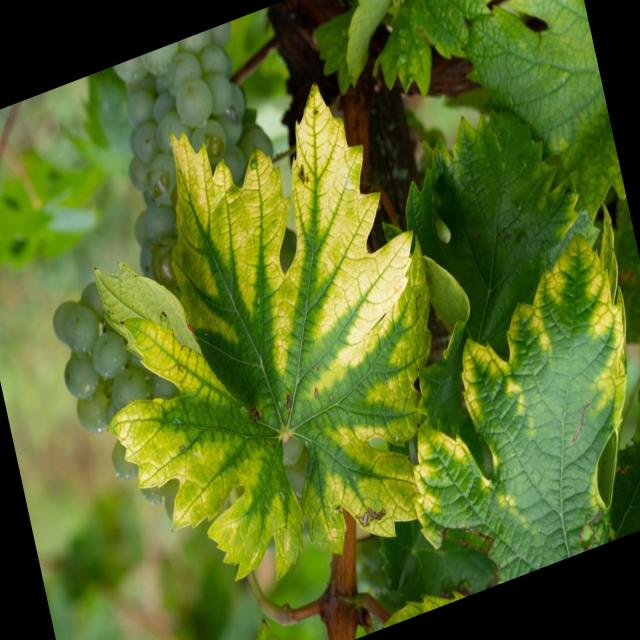Chlorosis: (64, 131, 440, 575)
